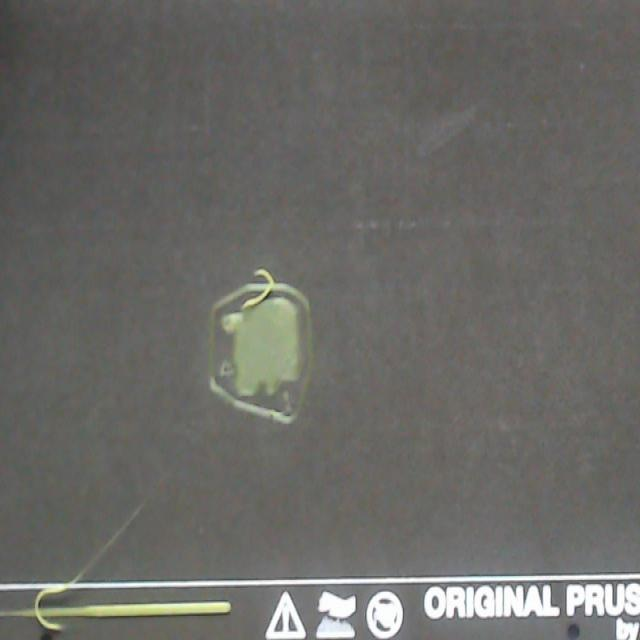mistake: (243, 271, 274, 308)
